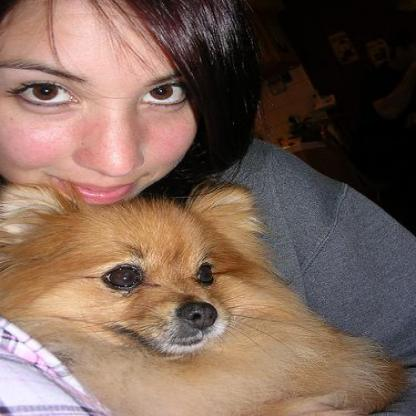Pomeranian: (0, 182, 407, 414)
